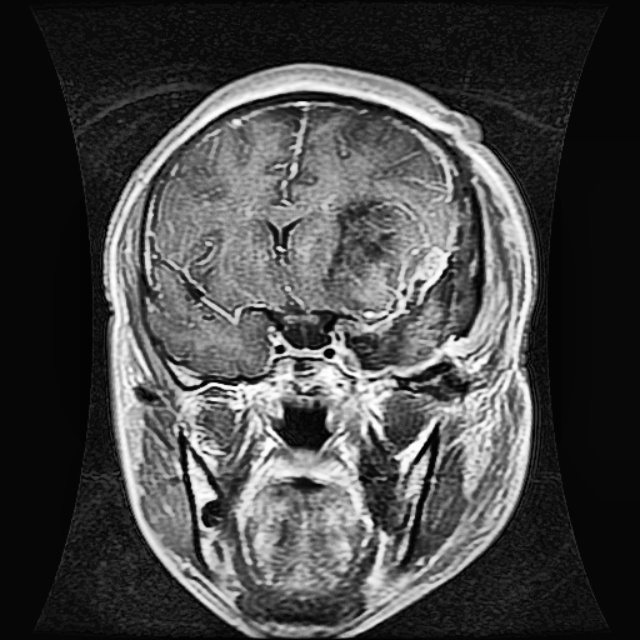Meningioma: (348, 193, 480, 369)
